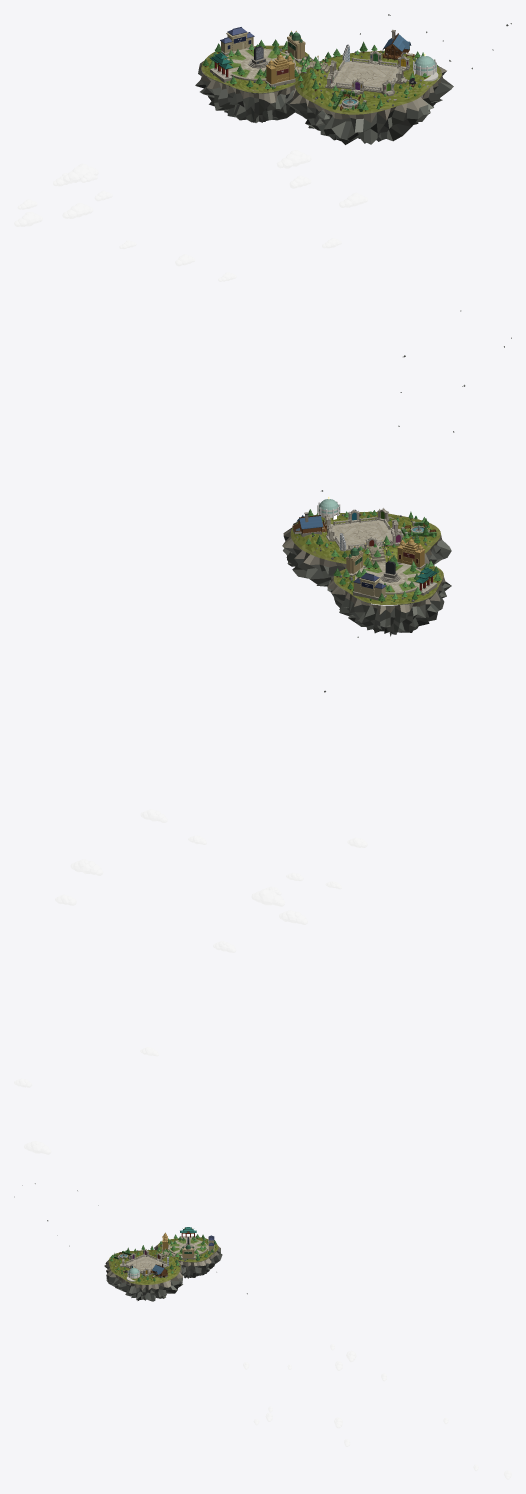
Rendered from portal-island.glb.
The picture shows the model from 3 angles, top to bottom: view 1: azimuth 30°, elevation 25°; view 2: azimuth 150°, elevation 25°; view 3: azimuth 270°, elevation 25°; orthographic projection. The views are drawn at different scales.
Visible parts, largest first — view 1: Island_Cliff, Island_Grass, Clouds, Rosetta_Cliff, Plaza_Paving, Trees, Rosetta_Ground, Rosetta_Trees, Rosetta_Gate_Hindi, Rosetta_Gate_French, Rosetta_Paving, Cabin (+5 smaller); view 2: Rosetta_Cliff, Clouds, Island_Grass, Island_Cliff, Plaza_Paving, Rosetta_Ground; view 3: Island_Cliff, Island_Grass, Clouds, Rosetta_Cliff, Plaza_Paving.
Part boxes in pixels (box(x1,y1,x2,y2)): Island_Cliff: box(284, 66, 453, 144); Island_Grass: box(294, 50, 441, 114); Clouds: box(14, 150, 367, 281); Rosetta_Cliff: box(195, 54, 313, 122); Plaza_Paving: box(333, 61, 399, 92); Trees: box(298, 41, 437, 111); Rosetta_Ground: box(201, 45, 311, 93); Rosetta_Trees: box(202, 39, 311, 90); Rosetta_Gate_Hindi: box(265, 52, 295, 87); Rosetta_Gate_French: box(219, 27, 254, 55); Rosetta_Paving: box(212, 48, 295, 81); Cabin: box(382, 29, 411, 60); Rosetta_Cliff: box(327, 575, 451, 636); Clouds: box(14, 809, 367, 1154); Island_Grass: box(290, 511, 440, 563); Island_Cliff: box(282, 521, 451, 592); Plaza_Paving: box(332, 520, 392, 551); Rosetta_Ground: box(333, 552, 443, 604); Island_Cliff: box(104, 1260, 183, 1301); Island_Grass: box(108, 1250, 180, 1284); Clouds: box(243, 1344, 511, 1479); Rosetta_Cliff: box(154, 1245, 222, 1278); Plaza_Paving: box(125, 1256, 169, 1273).
Bounding box in the file's own units: 84.58 × 169 × 267.
